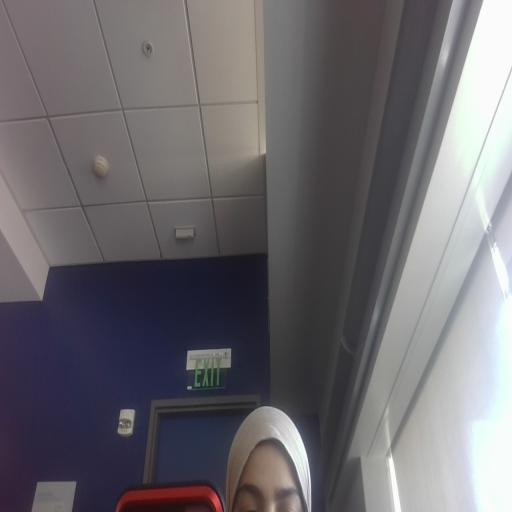phone: (103, 471, 245, 512)
